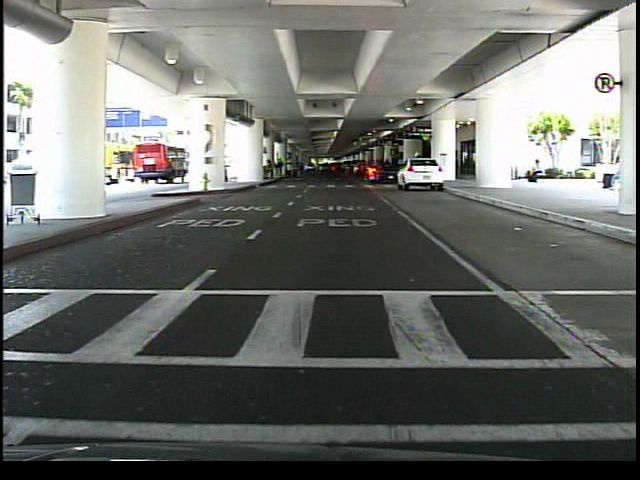person: (521, 154, 548, 190)
